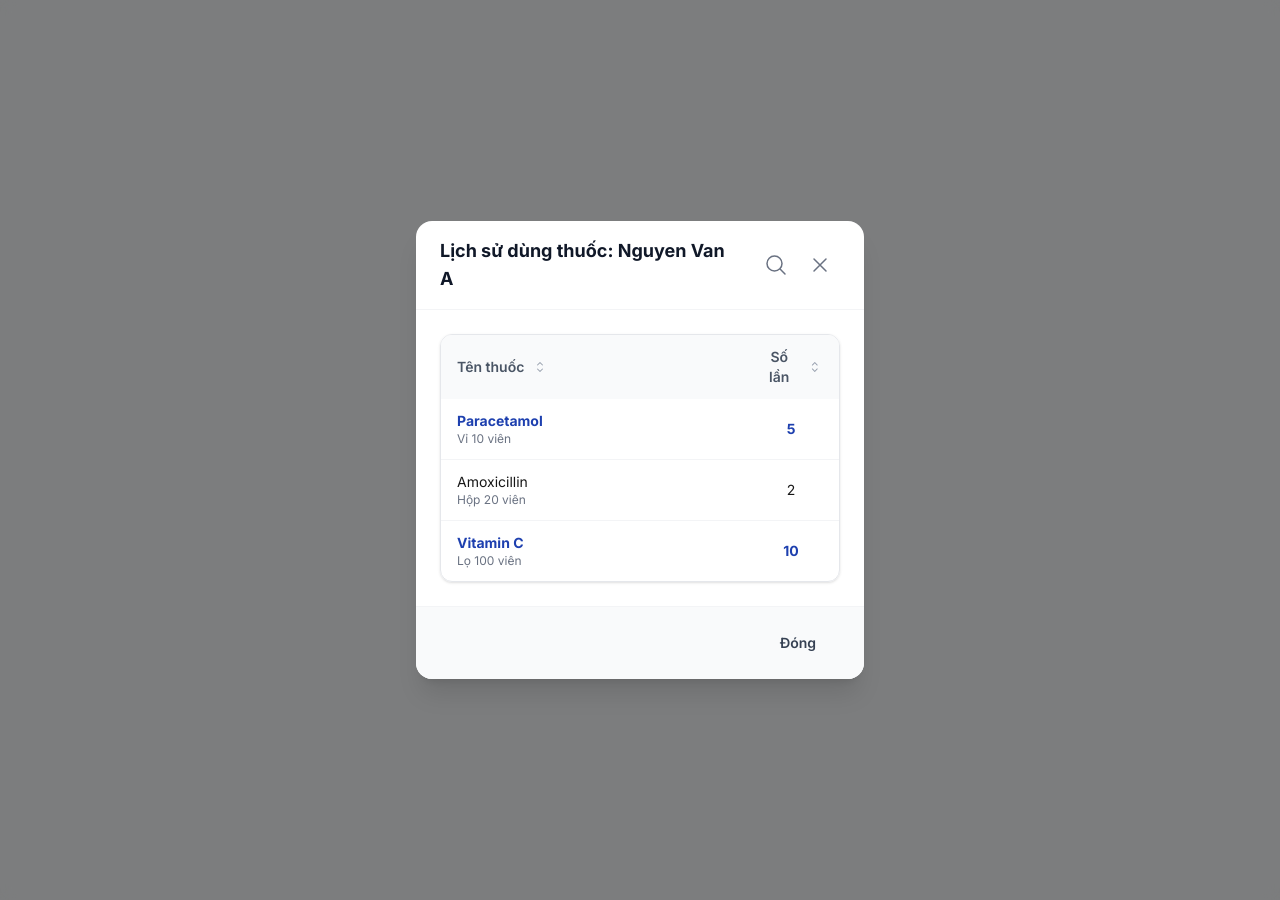
MedicineUsageDialog Sorting › should sort by medicine name (A-Z -> Z-A -> None)
The width and height of the screenshot is (1280, 900).
Expected: the text "Paracetamol" is shown, top-left (457, 412), bottom-right (543, 429)
# Click 1: A-Z
What coordinates should you click on to do the following:
click the text "Tên thuốc"
I would click on:
 (503, 366)
Its box is top-left (457, 358), bottom-right (548, 375).
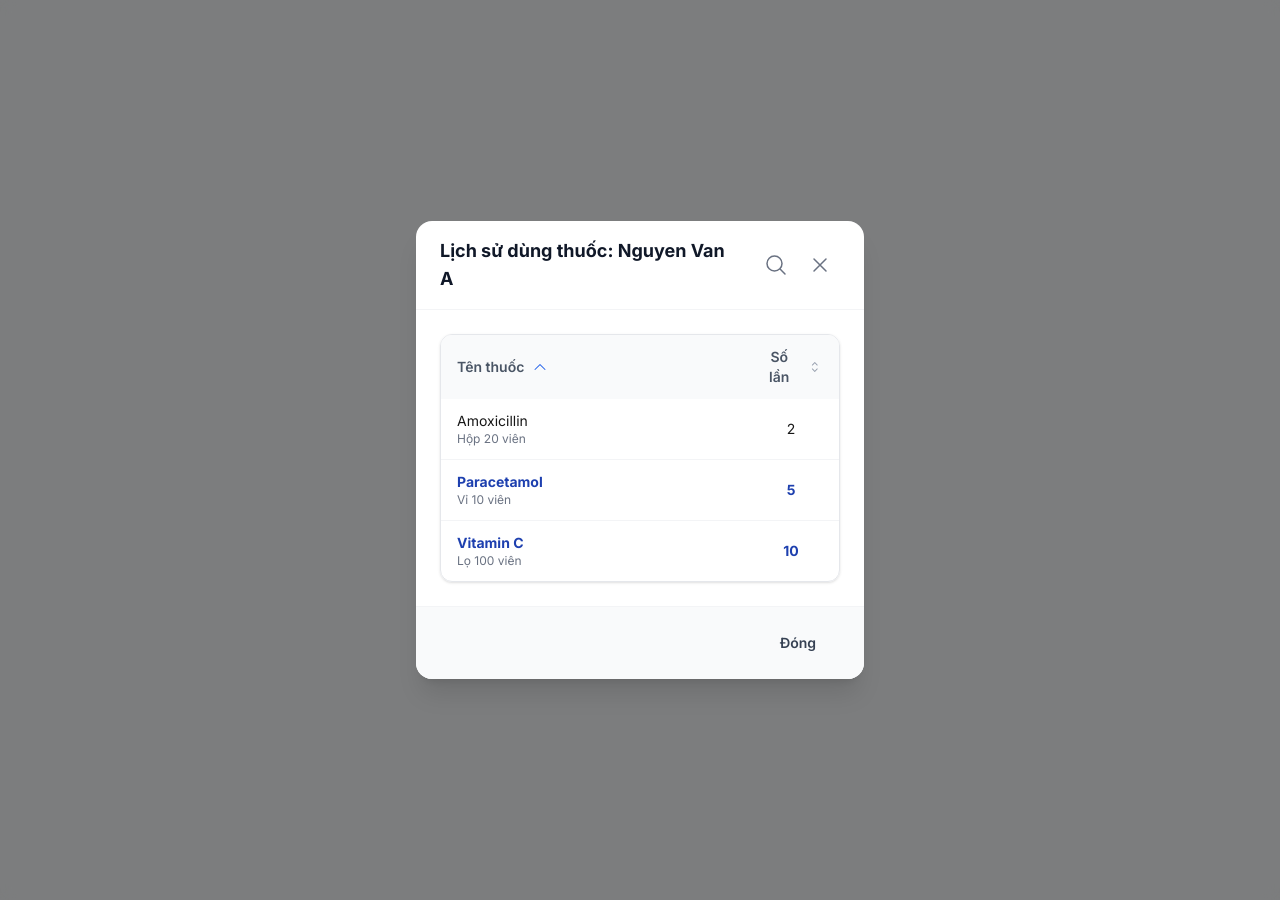
Expected: the row "Vitamin C Lọ 100 viên 10" is shown, top-left (441, 520), bottom-right (839, 581)
Expected: the row "Amoxicillin Hộp 20 viên 2" is shown, top-left (441, 399), bottom-right (839, 460)
Expected: the row "Paracetamol Vỉ 10 viên 5" is shown, top-left (441, 460), bottom-right (839, 520)
# Click 2: Z-A
What coordinates should you click on to do the following:
click the text "Tên thuốc"
I would click on:
 (503, 366)
Its box is top-left (457, 358), bottom-right (548, 375).
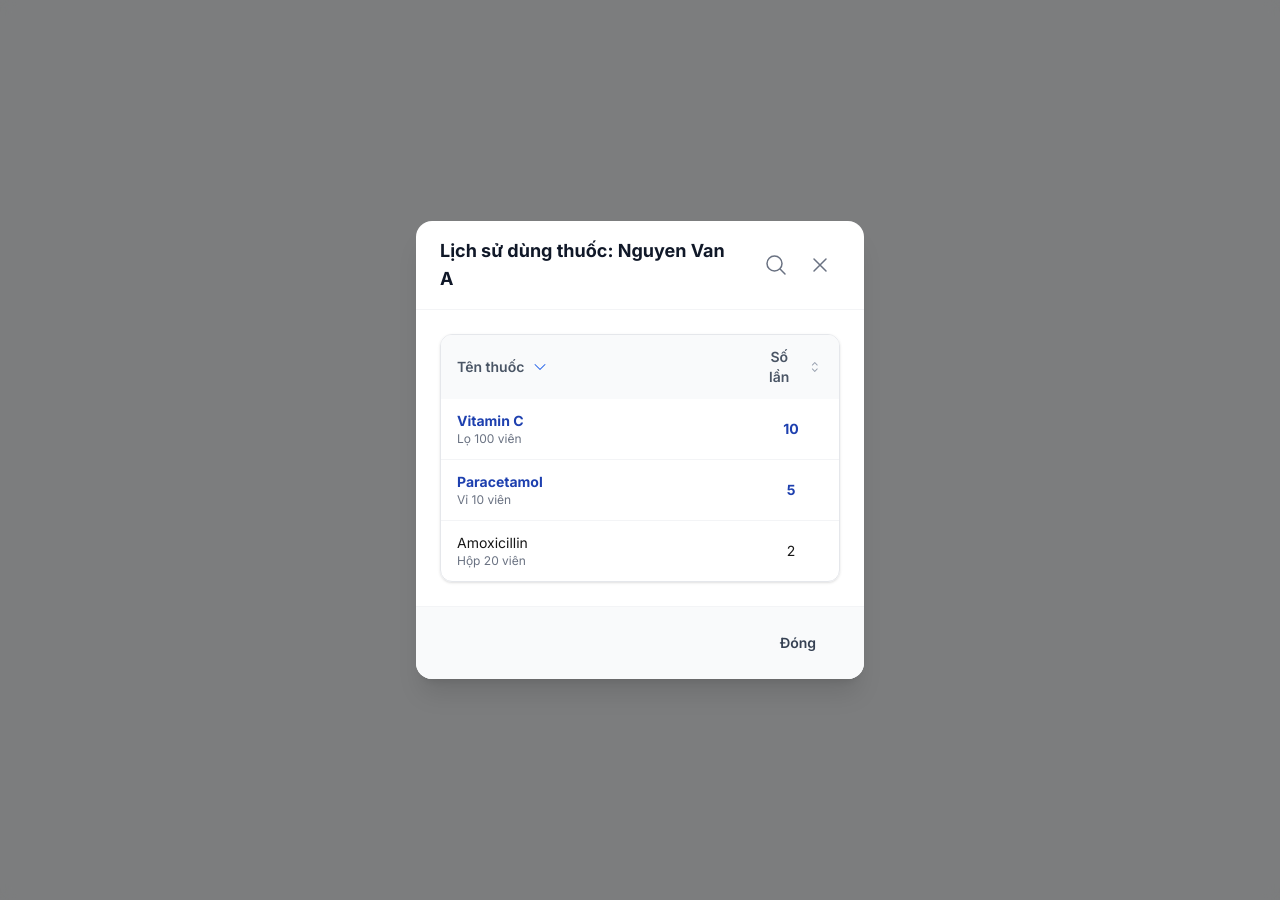
Expected: the row "Paracetamol Vỉ 10 viên 5" is shown, top-left (441, 460), bottom-right (839, 520)
Expected: the row "Vitamin C Lọ 100 viên 10" is shown, top-left (441, 399), bottom-right (839, 460)
Expected: the row "Amoxicillin Hộp 20 viên 2" is shown, top-left (441, 520), bottom-right (839, 581)
What coordinates should you click on to do the following:
click the text "Tên thuốc"
I would click on:
 (503, 366)
Its box is top-left (457, 358), bottom-right (548, 375).
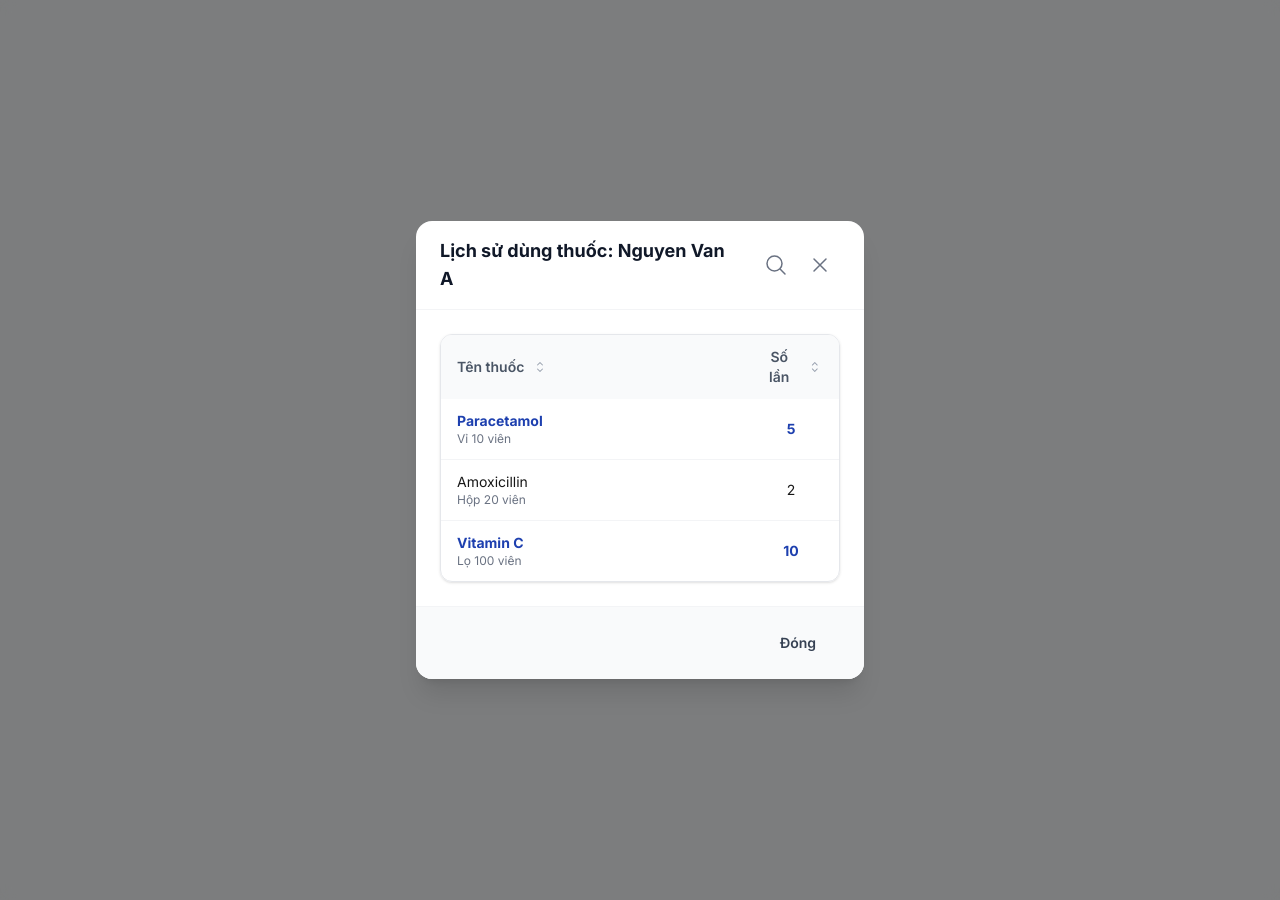
Expected: the row "Paracetamol Vỉ 10 viên 5" is shown, top-left (441, 399), bottom-right (839, 460)
Expected: the row "Amoxicillin Hộp 20 viên 2" is shown, top-left (441, 460), bottom-right (839, 520)
Expected: the row "Vitamin C Lọ 100 viên 10" is shown, top-left (441, 520), bottom-right (839, 581)
